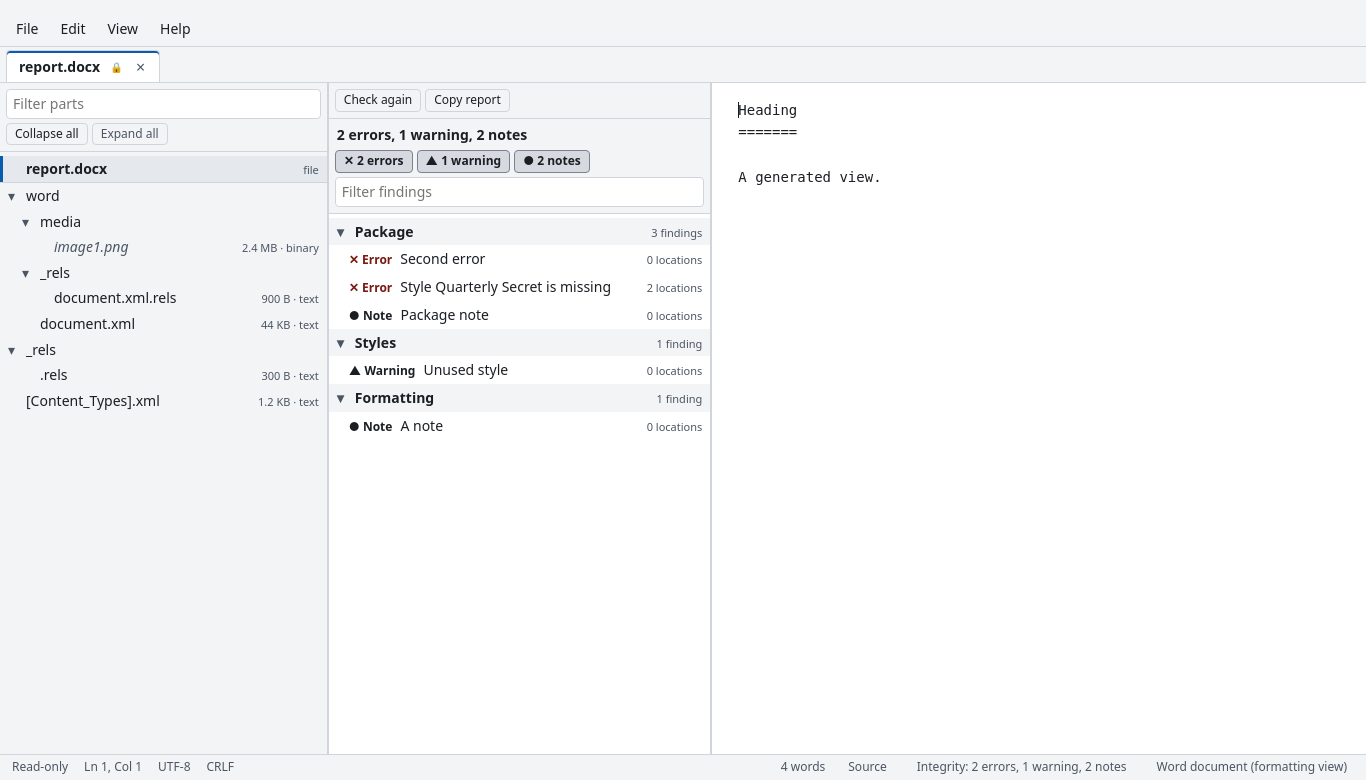
Test: the Integrity pane › filters by text across title, rule and location
The image size is (1366, 780).
Expected: the element "findings" is shown, [329,214,710,754]
Step 1. Type "unused" into the search field labelled "Filter findings" → (520, 192), box [335,177,704,207]
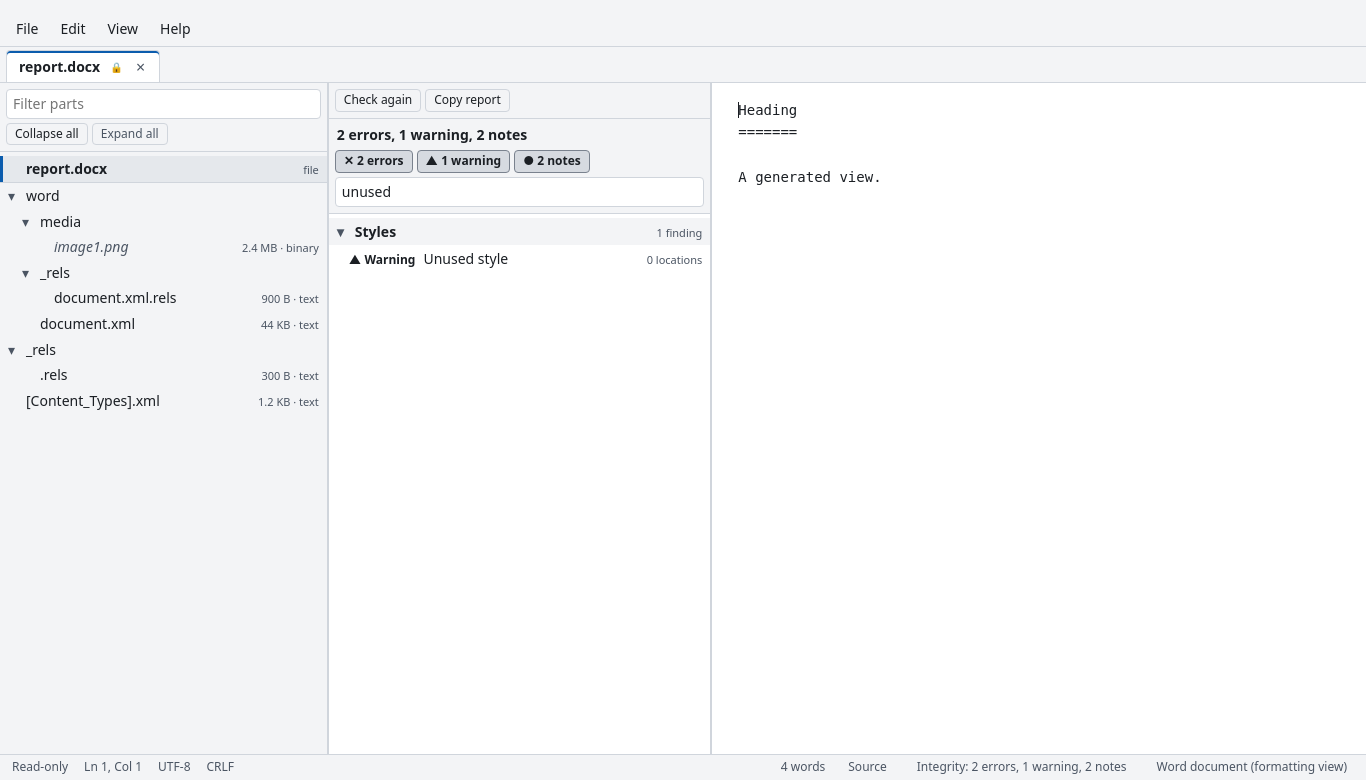
Expected: the text "Second error" is gone
Step 2. Replace the text in the search field named "Filter findings" with "w:p[12]" → (520, 192), box [335,177,704,207]
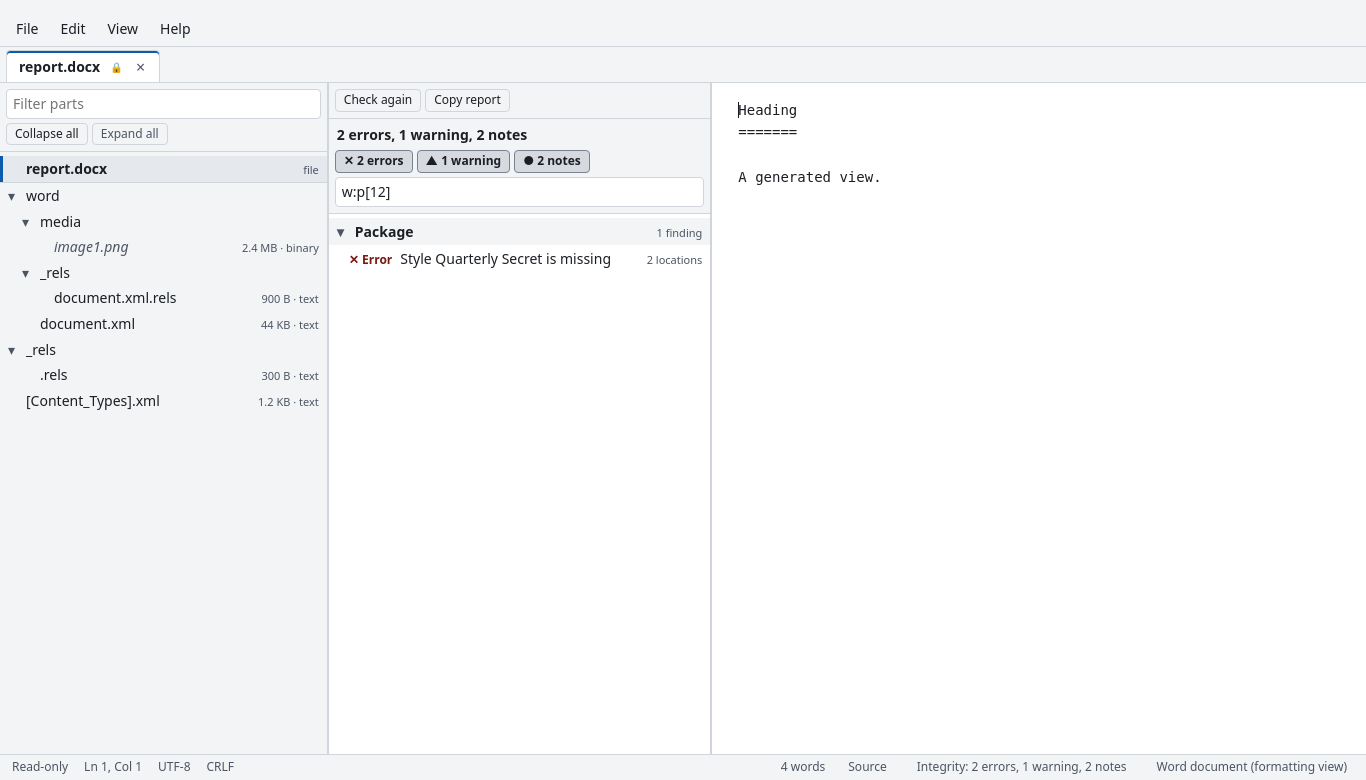
Expected: the list item "✕ Error Style Quarterly Secret is missing 2 locations" is shown, [329,245,710,273]
